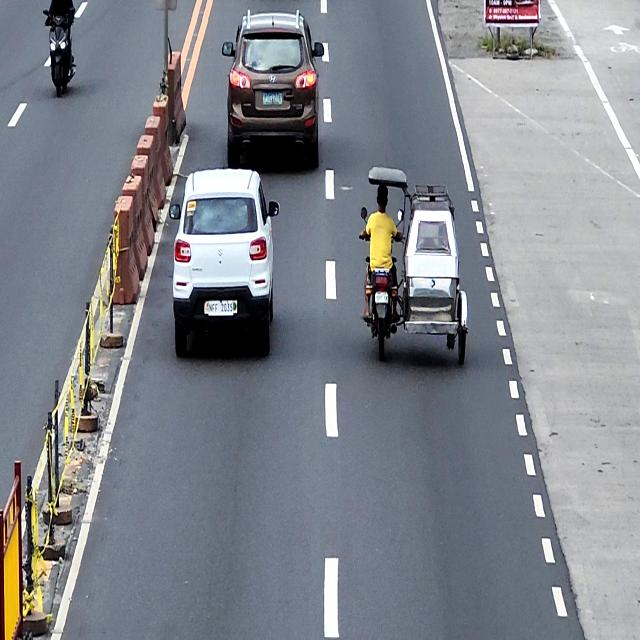Car: (170, 169, 280, 355), (221, 8, 325, 171)
License-Plate: (208, 300, 234, 316), (262, 91, 282, 106), (374, 292, 389, 305)
Motorcycle: (42, 7, 78, 99)
Tricycle: (359, 164, 468, 366)
